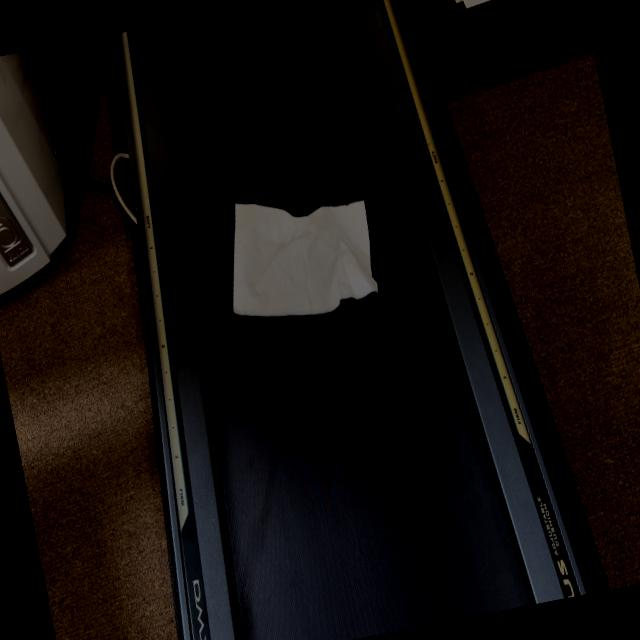Recycle: (213, 172, 388, 338)
